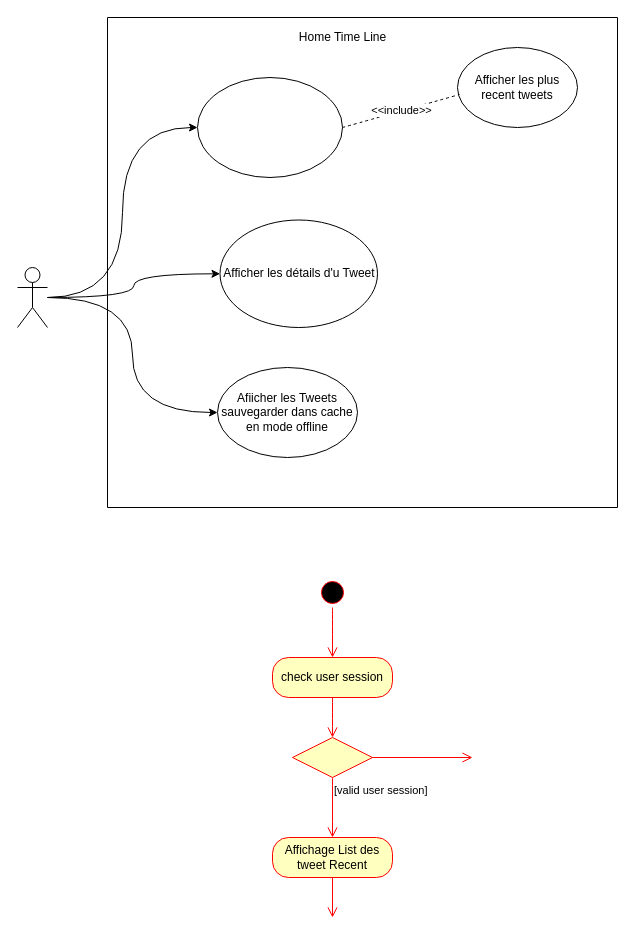
This 635x934 diagram has some shape labels left out. The box of each missing label's shape, as (x1, y1, x2, y2) in pixels:
Actor: (16, 266, 48, 328)
Afficher les tweets de la chronologie d'accueil: (196, 76, 342, 178)
Condition: (292, 736, 372, 778)
